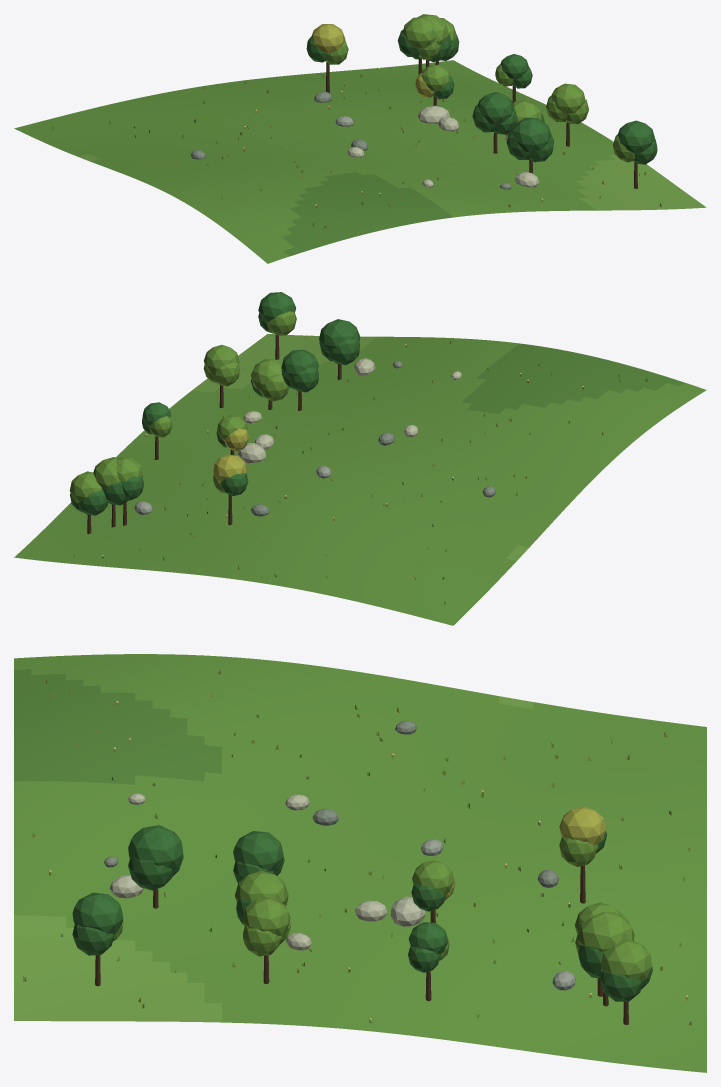
Rendered from Chunk_X-2_Y0_Z-2.fbx.
3 views of the same model, one above another, from view 1: azimuth 30°, elevation 25°; view 2: azimuth 150°, elevation 25°; view 3: azimuth 270°, elevation 25° (orthographic). The views are drawn at different scales.
Parts seen in each view (by area): view 1: Terrain.008, Canopies.008, Rocks.008, Trunks.008, GroundCover.008; view 2: Terrain.008, Canopies.008, Rocks.008, Trunks.008, GroundCover.008; view 3: Terrain.008, Canopies.008, Rocks.008, GroundCover.008, Trunks.008.
Boxes of the visible parts, <box> form: Terrain.008: <box>14,60,706,263</box>; Canopies.008: <box>306,14,657,164</box>; Rocks.008: <box>190,91,538,189</box>; Trunks.008: <box>326,58,637,188</box>; GroundCover.008: <box>51,66,661,238</box>; Terrain.008: <box>14,334,706,625</box>; Canopies.008: <box>69,292,360,515</box>; Rocks.008: <box>134,358,495,516</box>; Trunks.008: <box>87,335,341,533</box>; GroundCover.008: <box>73,335,647,604</box>; Terrain.008: <box>14,654,706,1072</box>; Canopies.008: <box>72,806,652,1001</box>; Rocks.008: <box>104,720,575,990</box>; GroundCover.008: <box>23,670,691,1025</box>; Trunks.008: <box>95,865,628,1024</box>.
Bounding box in the file's own units: 100 × 25.88 × 100.
